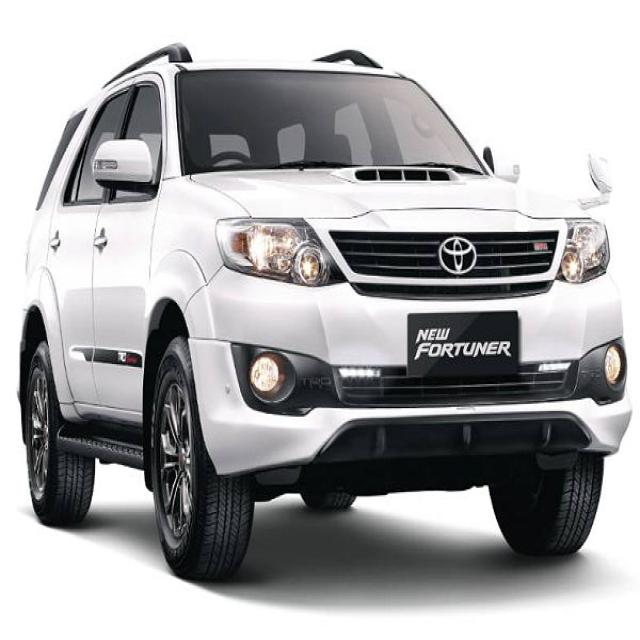light_vehicle: (18, 42, 631, 582)
